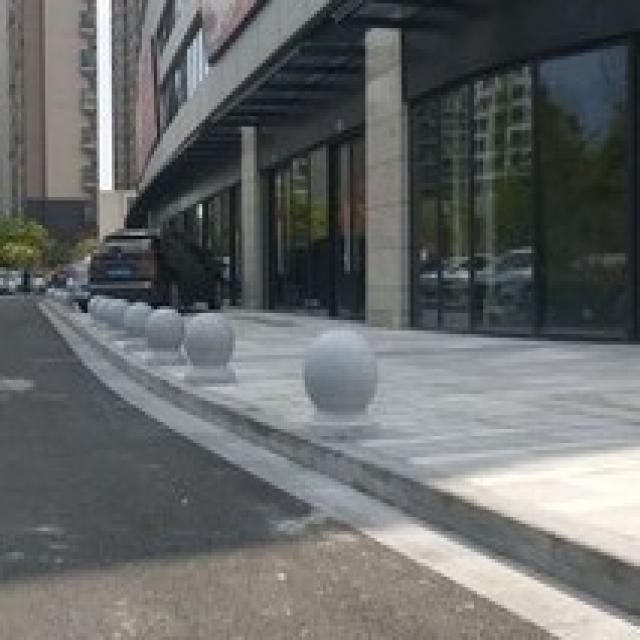car: (78, 222, 220, 310)
spherical_roadblock: (299, 316, 380, 432), (178, 306, 236, 383)
